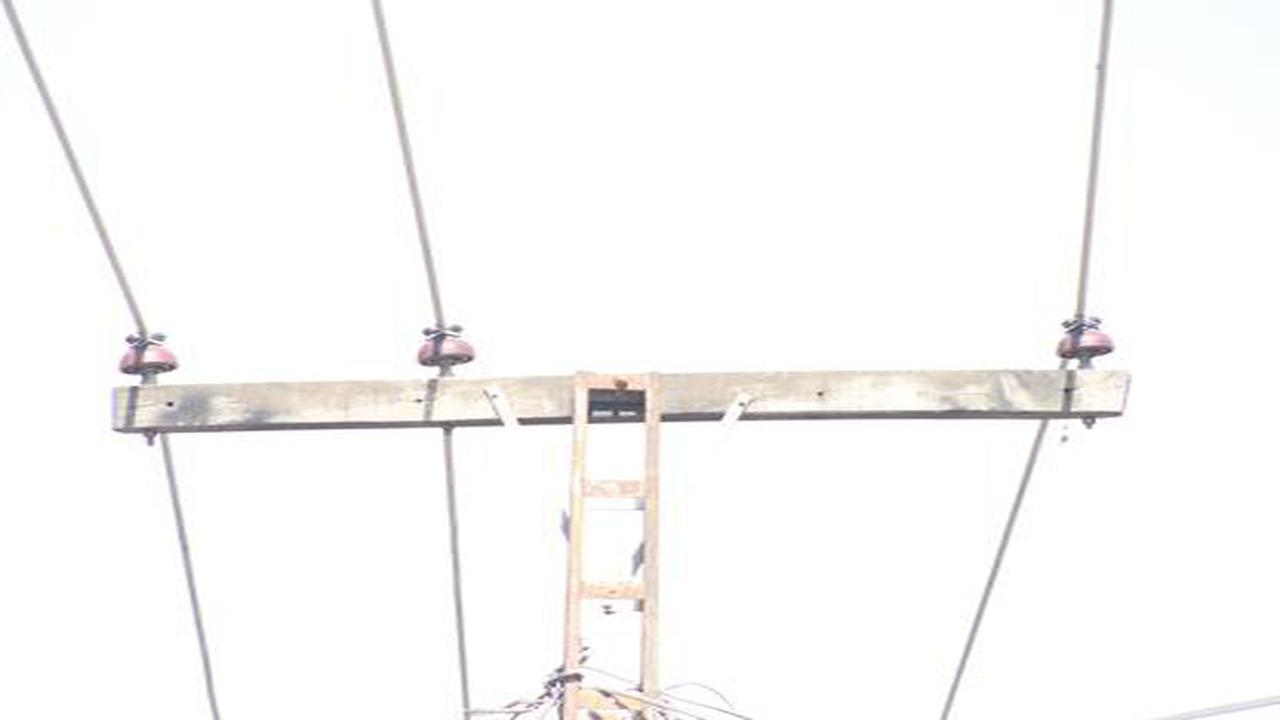insulator_pin: (1053, 316, 1121, 367), (115, 328, 180, 379), (415, 325, 481, 372)
